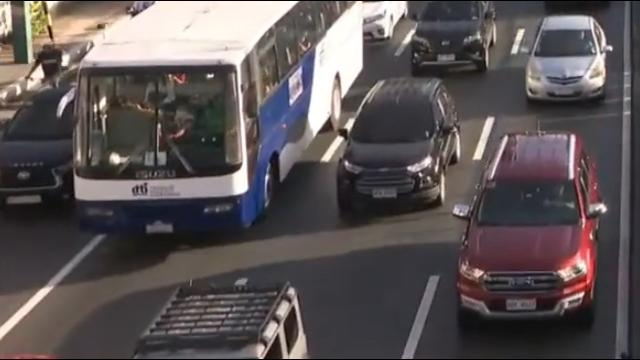bus: (79, 0, 363, 245)
car: (452, 117, 609, 338), (329, 67, 465, 222), (0, 83, 78, 219), (510, 9, 612, 109), (403, 0, 502, 77), (362, 0, 409, 45)
truck: (125, 274, 318, 360)
